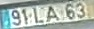1: (20, 7, 29, 25)
3: (74, 1, 86, 18)
6: (64, 2, 76, 20)
9: (10, 8, 22, 26)
A: (45, 4, 60, 23)
L: (31, 5, 45, 24)
